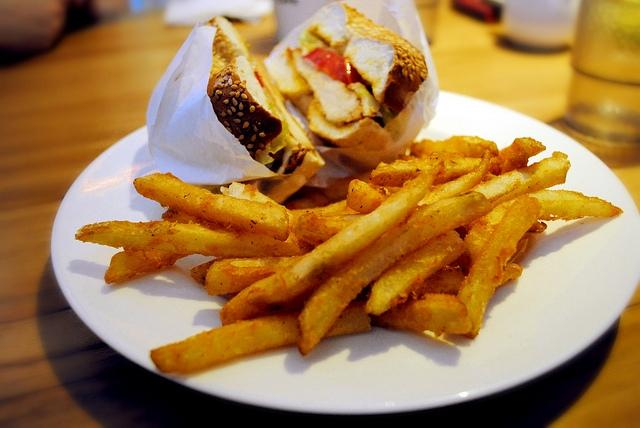lettuce: (254, 87, 290, 165), (300, 29, 324, 54)
tomato: (302, 47, 362, 92), (254, 72, 264, 88)
